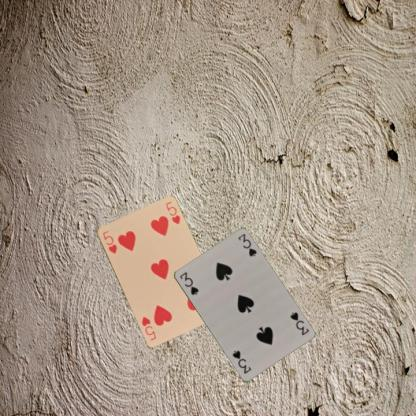3s: (287, 309, 310, 337), (177, 270, 200, 297)
5h: (100, 228, 118, 255)
